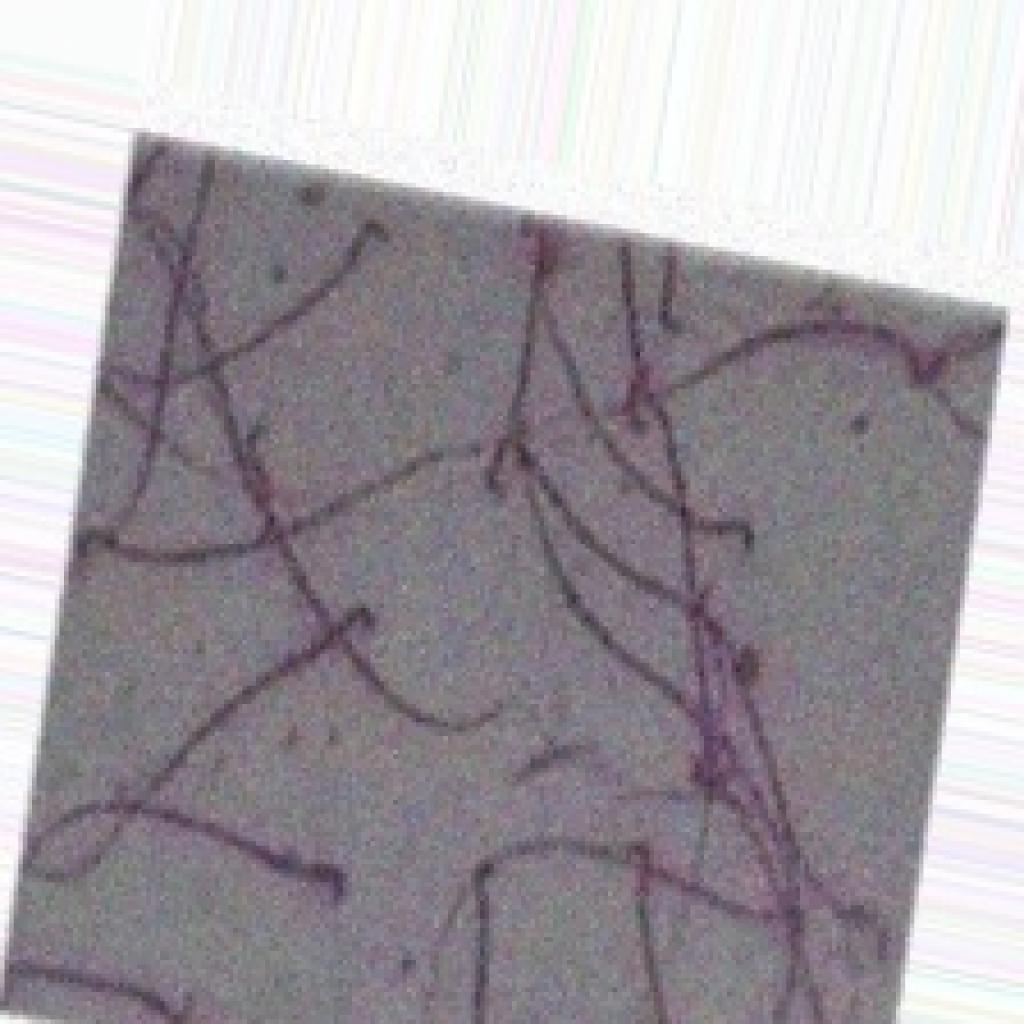Sprialbacteria: (0, 128, 1006, 1019)
